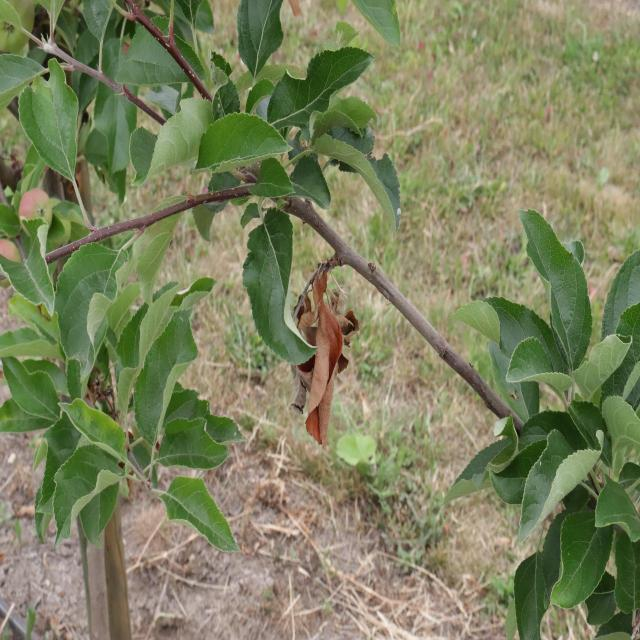-FireBlight-: (293, 254, 347, 443)
